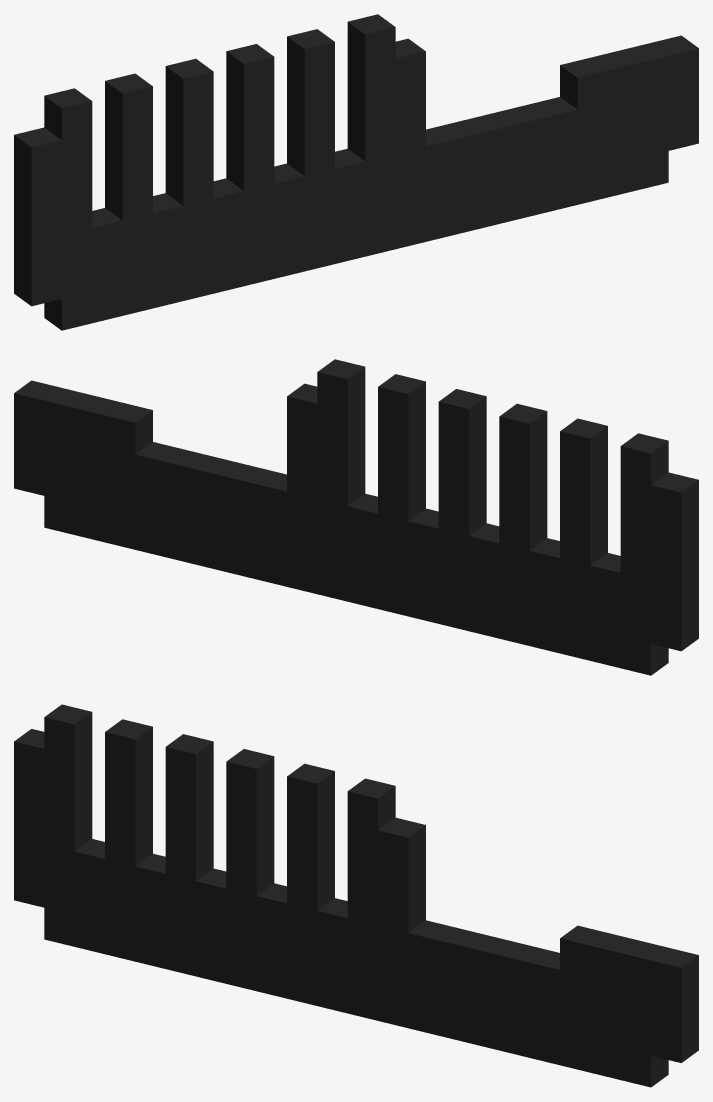
File: Comp.obj
The picture shows the model from 3 angles, top to bottom: view 1: azimuth 30°, elevation 25°; view 2: azimuth 150°, elevation 25°; view 3: azimuth 330°, elevation 25°; orthographic projection.
Visible parts, largest first — view 1: Untitled.066; view 2: Untitled.066; view 3: Untitled.066.
Part boxes in pixels (x1,y1,x2,y2): Untitled.066: [14, 14, 698, 330]; Untitled.066: [14, 359, 698, 675]; Untitled.066: [14, 704, 698, 1087].
Bounding box in the file's own units: 2.2 × 0.7 × 0.1.
1 material, 1 textured.
